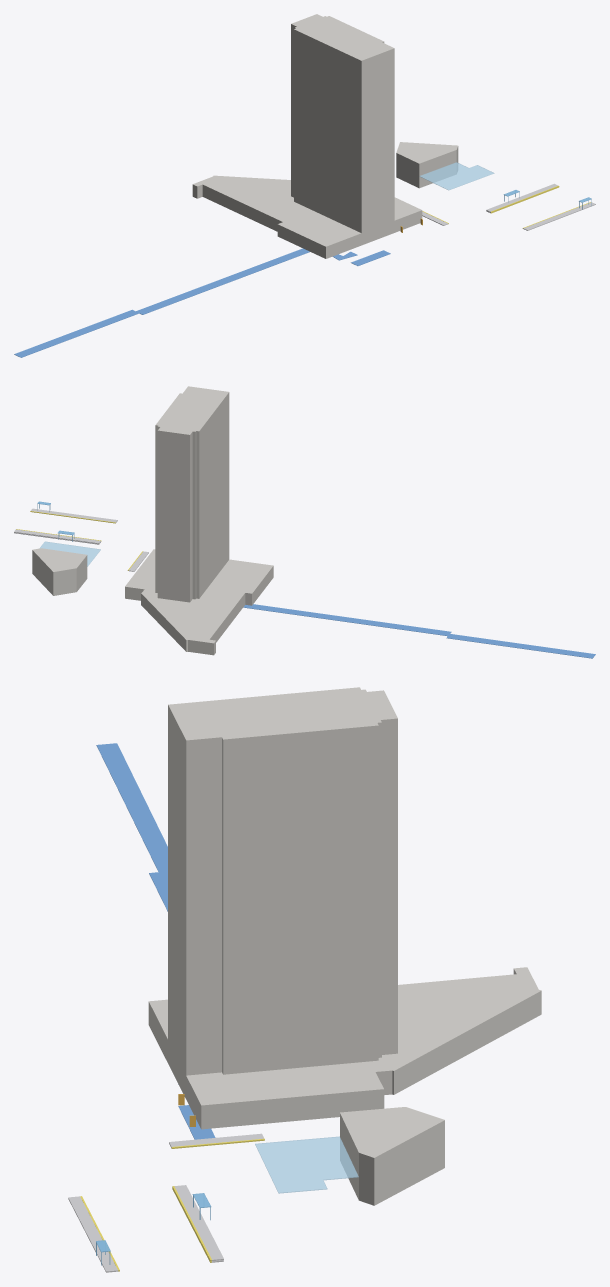
File: 8577002-ostermundigen-waldeck.glb
The picture shows the model from 3 angles, top to bottom: view 1: azimuth 30°, elevation 25°; view 2: azimuth 150°, elevation 25°; view 3: azimuth 270°, elevation 25°; orthographic projection. The views are drawn at different scales.
Visible parts, largest first — view 1: building_part@x, passage@-1, roof@0, platform_body@0; view 2: building_part@x, passage@-1, platform_body@0, roof@0; view 3: building_part@x, roof@0, passage@-1, platform_body@0.
Part boxes in pixels (box(x1,y1,x2,y2)): building_part@x: box(192, 14, 458, 258); passage@-1: box(14, 248, 357, 357); roof@0: box(419, 162, 494, 190); platform_body@0: box(422, 183, 595, 230); building_part@x: box(32, 386, 273, 655); passage@-1: box(243, 604, 595, 658); platform_body@0: box(14, 508, 148, 571); roof@0: box(39, 541, 100, 566); building_part@x: box(148, 687, 541, 1205); roof@0: box(255, 1136, 358, 1193); passage@-1: box(96, 743, 178, 1084); platform_body@0: box(68, 1133, 264, 1272).
Bounding box in the file's own units: 246 × 84.12 × 89.66.
